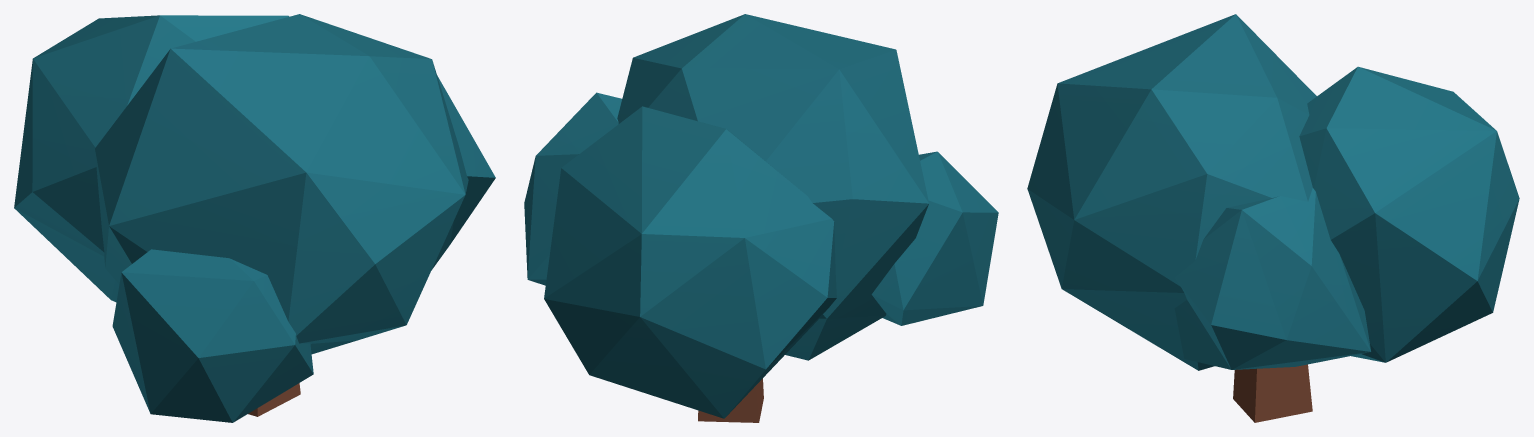
File: Bush_6_gradient_blue_vc.fbx
3 views of the same model, side by side, from view 1: azimuth 30°, elevation 25°; view 2: azimuth 150°, elevation 25°; view 3: azimuth 270°, elevation 25° (orthographic). The views are drawn at different scales.
Parts seen in each view (by area): view 1: Bush_6_gradient_blue_vc; view 2: Bush_6_gradient_blue_vc; view 3: Bush_6_gradient_blue_vc.
Boxes of the visible parts, x1,y1,x2,y2 form: Bush_6_gradient_blue_vc: [14, 14, 495, 422]; Bush_6_gradient_blue_vc: [524, 14, 998, 422]; Bush_6_gradient_blue_vc: [1027, 14, 1519, 422].
Size of the model in its own units: 30.85 by 27.54 by 35.35.
